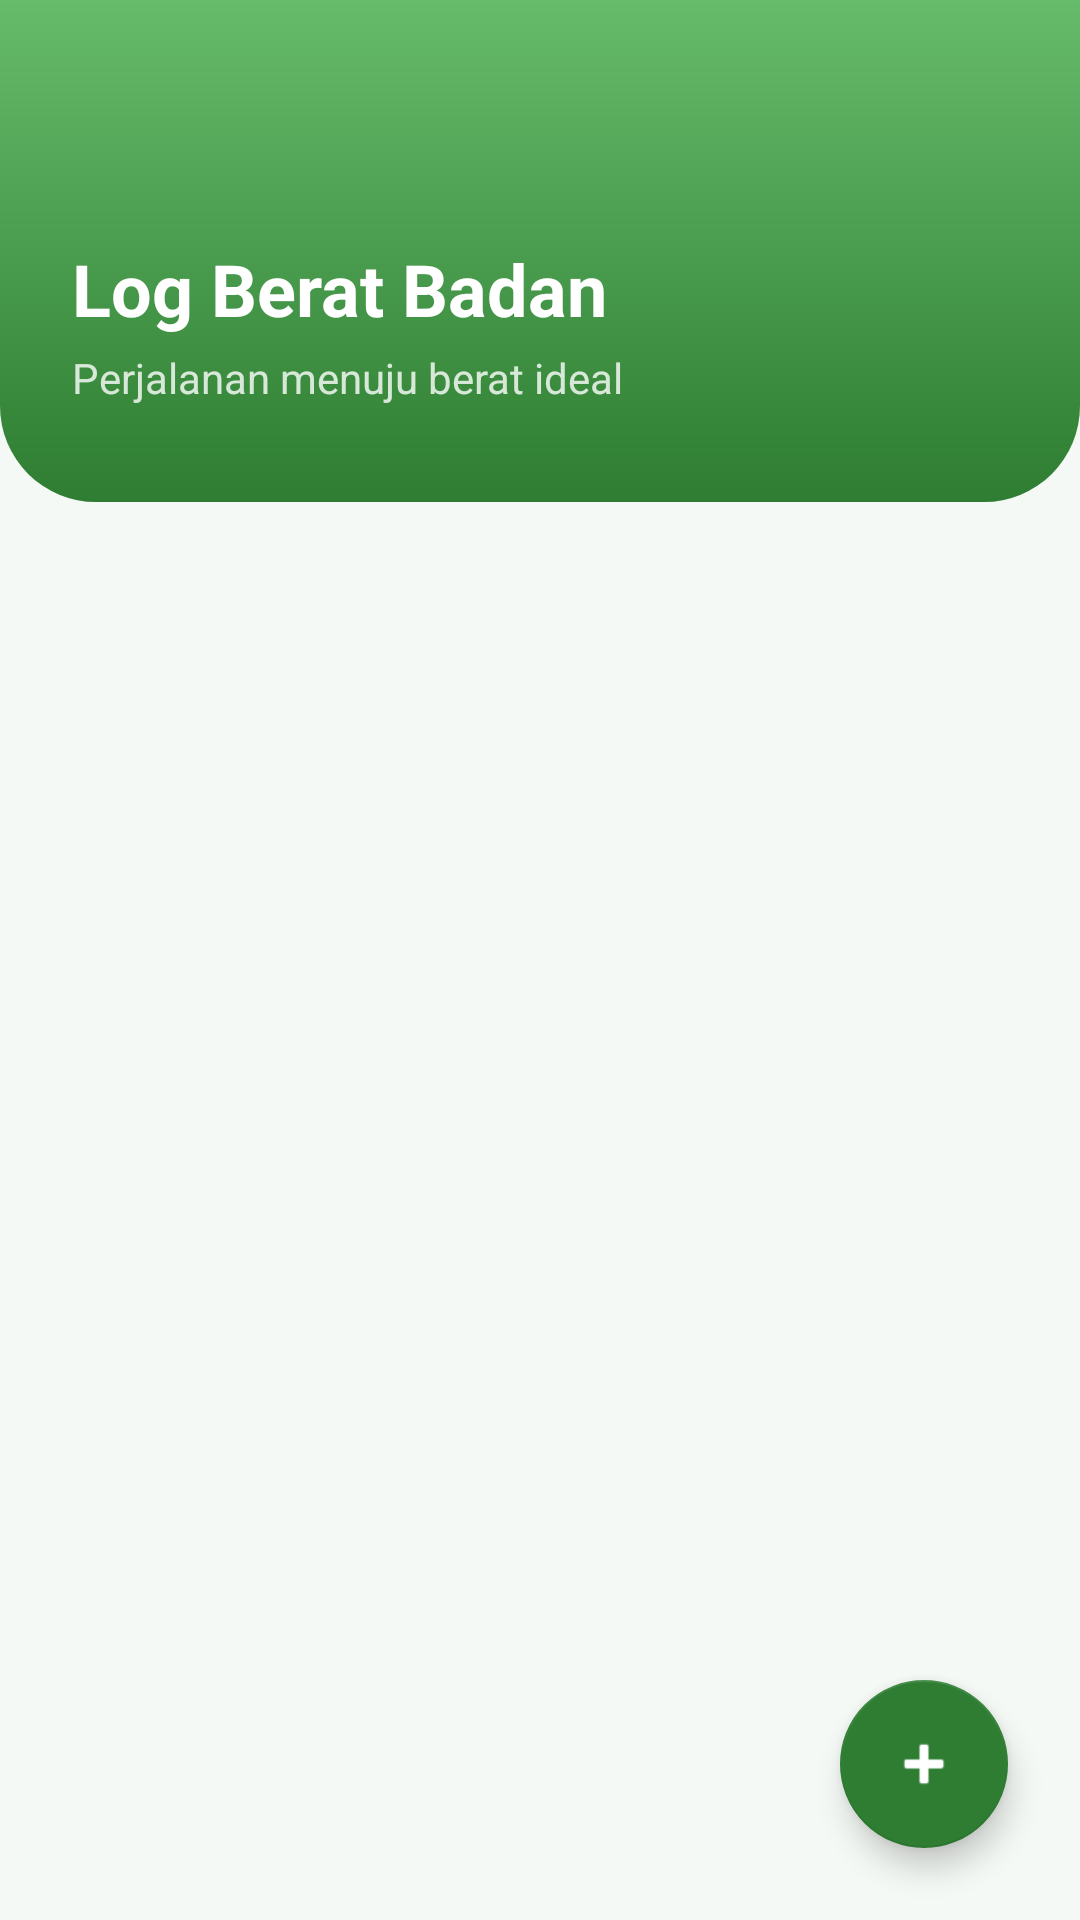

Where icons sit on this 1080w x 1920h app screen, as (x1, y1, x2, y2):
Tambah Log: (840, 1680, 1008, 1848)
